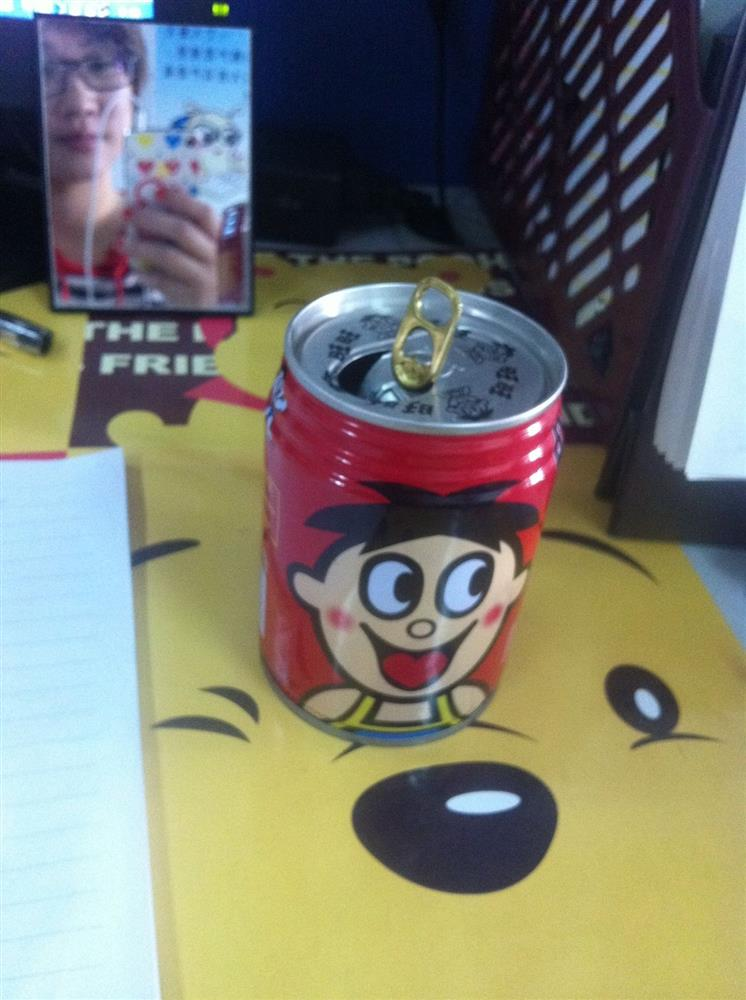wangzai: (280, 473, 543, 736)
